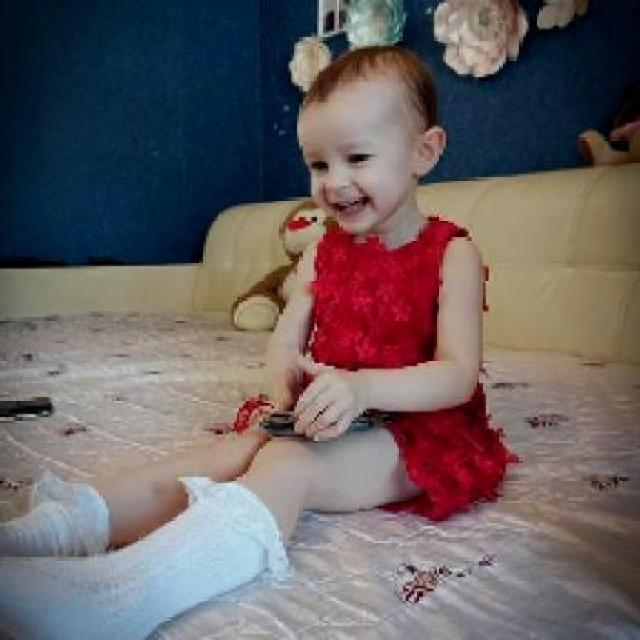child: (3, 42, 526, 638)
